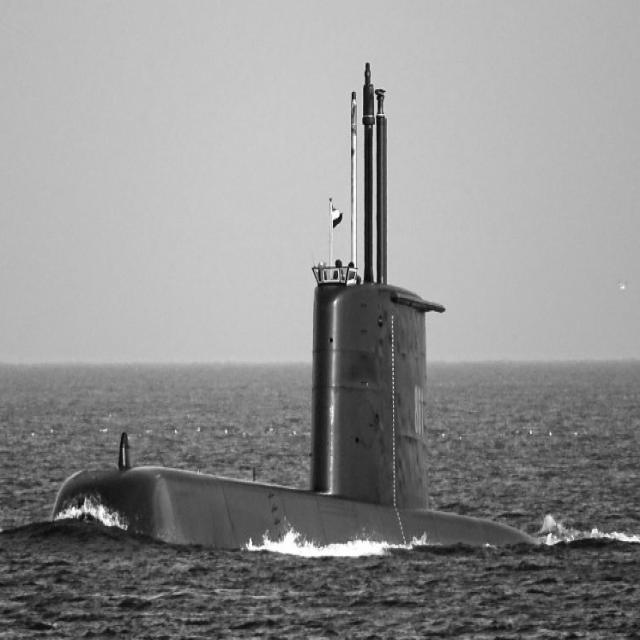submarine: (47, 45, 562, 549)
